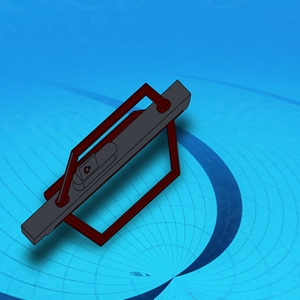submarine: (20, 76, 187, 250)
